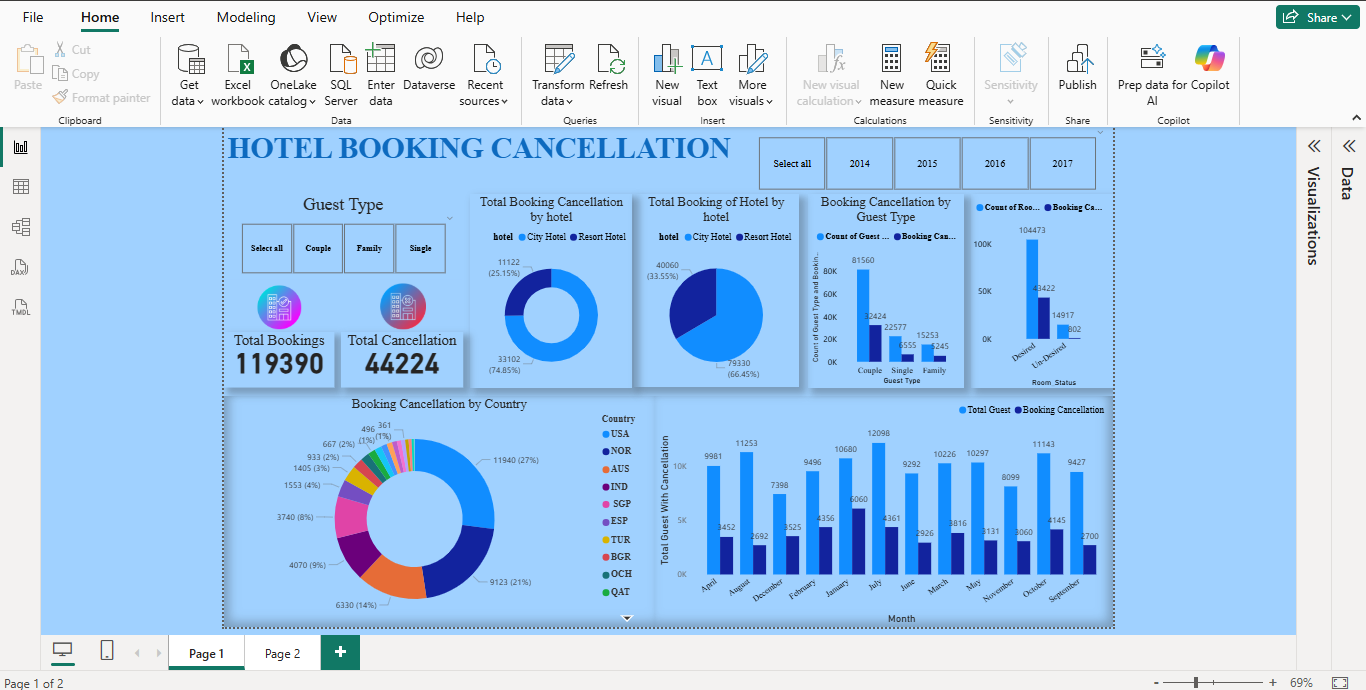

Layout of this report page (visuals, bound fields, positions):
{"tool":"powerbi","page":{"name":"Page 1","canvas":[1280,720],"ordinal":0},"visuals":[{"type":"clusteredColumnChart","title":"Booking Cancellation by Guest Type","fields":{"Y":["CountNonNull(hotel_booking.Guest Type)","Sum(hotel_booking.is_canceled)"],"Category":["hotel_booking.Guest Type"]},"box":[841.4,97.1,224.3,278.6],"z":0},{"type":"pieChart","fields":{"Category":["hotel_booking.hotel"],"Y":["CountNonNull(hotel_booking.hotel)"]},"box":[590,96.7,236.7,278.3],"z":1000},{"type":"donutChart","fields":{"Category":["hotel_booking.hotel"],"Y":["Sum(hotel_booking.is_canceled)"]},"box":[354.3,97.1,234.3,278.6],"z":2000},{"type":"clusteredColumnChart","fields":{"Category":["hotel_booking.Month Name"],"Y":["CountNonNull(hotel_booking.Guest Type)","Sum(hotel_booking.is_canceled)"]},"box":[620,386.7,660,333.3],"z":3000},{"type":"clusteredColumnChart","fields":{"Category":["hotel_booking.Room_Status"],"Y":["CountNonNull(hotel_booking.Room_Status)","Sum(hotel_booking.is_canceled)"]},"box":[1075.7,97.1,204.3,278.6],"z":4000},{"type":"card","title":"Total Bookings","fields":{"Values":["CountNonNull(hotel_booking.hotel)"]},"box":[0,295.7,158.6,80],"z":5000},{"type":"card","title":"Total Cancellation","fields":{"Values":["Sum(hotel_booking.is_canceled)"]},"box":[168.6,295.7,175.7,80],"z":6000},{"type":"image","box":[42.9,222.9,72.9,72.9],"z":7000},{"type":"textbox","box":[0,0,745.7,68.6],"z":8000},{"type":"slicer","fields":{"Values":["hotel_booking.Year "]},"box":[745,0,535,96.7],"z":9000},{"type":"donutChart","fields":{"Category":["hotel_booking.Country"],"Y":["Sum(hotel_booking.is_canceled)"]},"box":[0,386.7,620,333.3],"z":10000},{"type":"image","box":[218.6,220,77.1,75.7],"z":11000},{"type":"slicer","title":"Guest Type","fields":{"Values":["hotel_booking.Guest Type"]},"box":[0,97.1,342.9,122.9],"z":12000}]}

Visuals, with their boxes on the page's 1280x720 design canvas (x1, y1, x2, y2). These are canvas units, not pixel positions in the 1366x690 screenshot, which may show the page scaled, cropped or inside an application window:
"Booking Cancellation by Guest Type" clusteredColumnChart: 841, 97, 1066, 376
pieChart - hotel_booking.hotel x CountNonNull(hotel_booking.hotel): 590, 97, 827, 375
donutChart - hotel_booking.hotel x Sum(hotel_booking.is_canceled): 354, 97, 589, 376
clusteredColumnChart - hotel_booking.Month Name x CountNonNull(hotel_booking.Guest Type): 620, 387, 1280, 720
clusteredColumnChart - hotel_booking.Room_Status x CountNonNull(hotel_booking.Room_Status): 1076, 97, 1280, 376
"Total Bookings" card: 0, 296, 159, 376
"Total Cancellation" card: 169, 296, 344, 376
image: 43, 223, 116, 296
textbox: 0, 0, 746, 69
slicer - hotel_booking.Year : 745, 0, 1280, 97
donutChart - hotel_booking.Country x Sum(hotel_booking.is_canceled): 0, 387, 620, 720
image: 219, 220, 296, 296
"Guest Type" slicer: 0, 97, 343, 220
